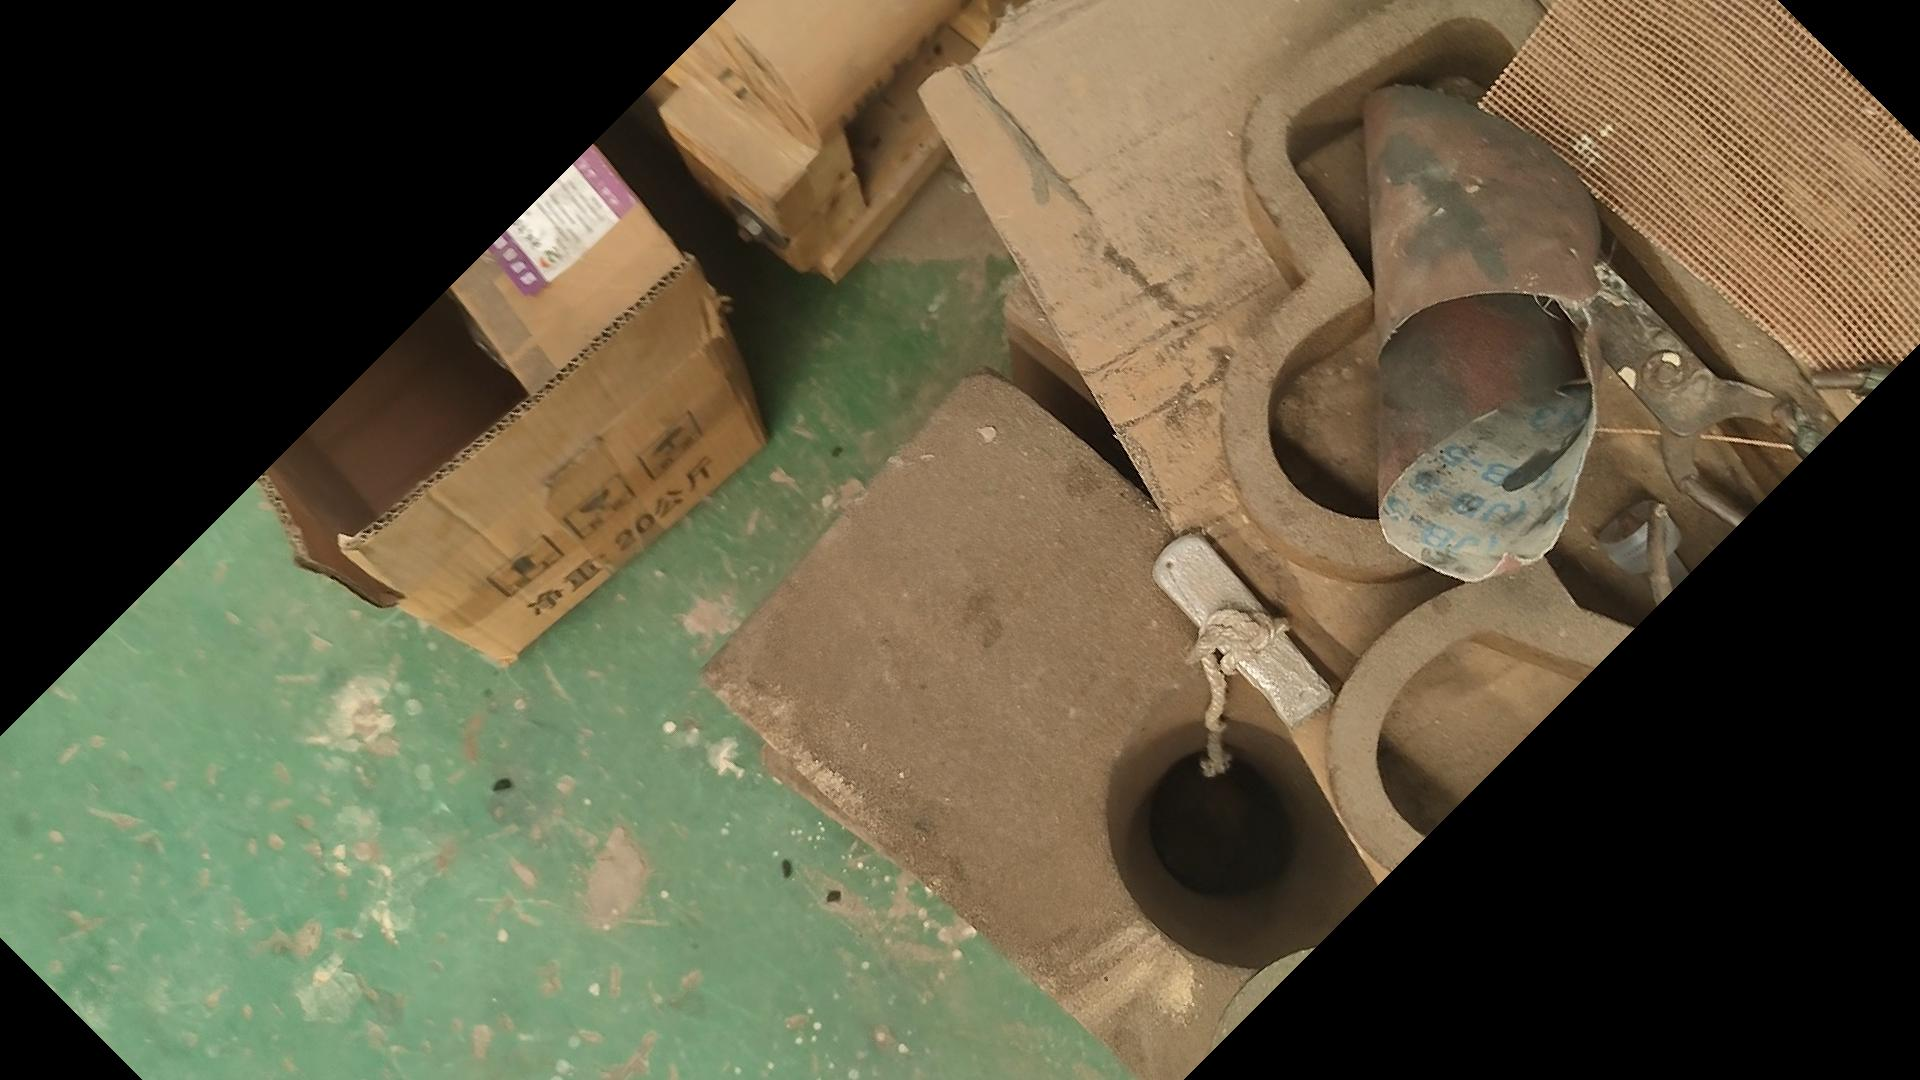pouring hole: (1106, 667, 1367, 968)
